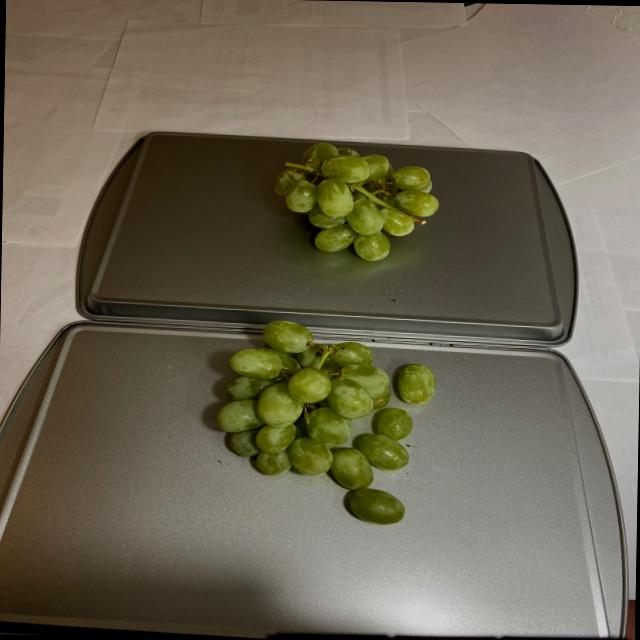grapes: (205, 319, 434, 524), (273, 141, 437, 267)
